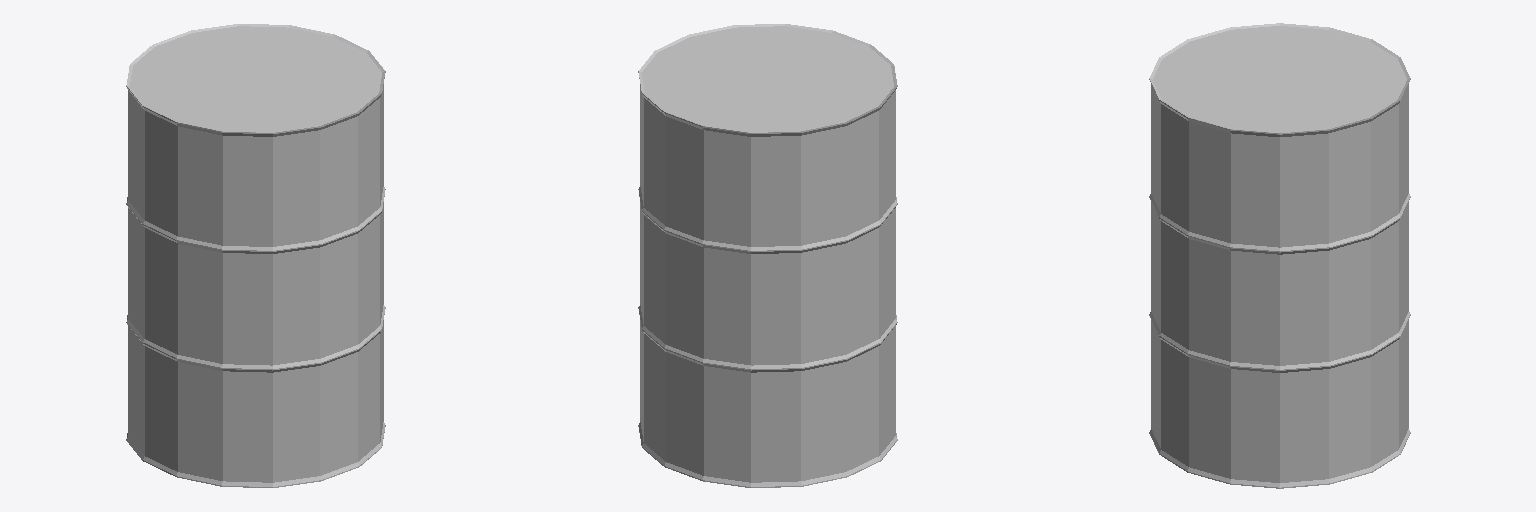
Rendered from blue-barrel-glsl.obj.
3 renders of one model, left to right at view 1: azimuth 30°, elevation 25°; view 2: azimuth 150°, elevation 25°; view 3: azimuth 270°, elevation 25°, orthographic.
Parts seen in each view (by area): view 1: Barrel_Cube; view 2: Barrel_Cube; view 3: Barrel_Cube.
Part boxes in pixels (x1,y1,x2,y2): Barrel_Cube: (126,24,385,487); Barrel_Cube: (638,24,897,487); Barrel_Cube: (1149,23,1410,488).
Size of the model in its own units: 4 by 6 by 4.